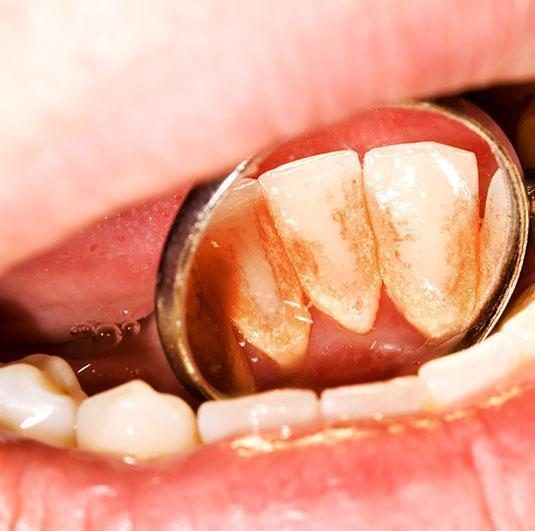Plaque: (369, 176, 483, 321), (197, 220, 304, 351), (289, 176, 383, 316), (180, 264, 251, 393)
